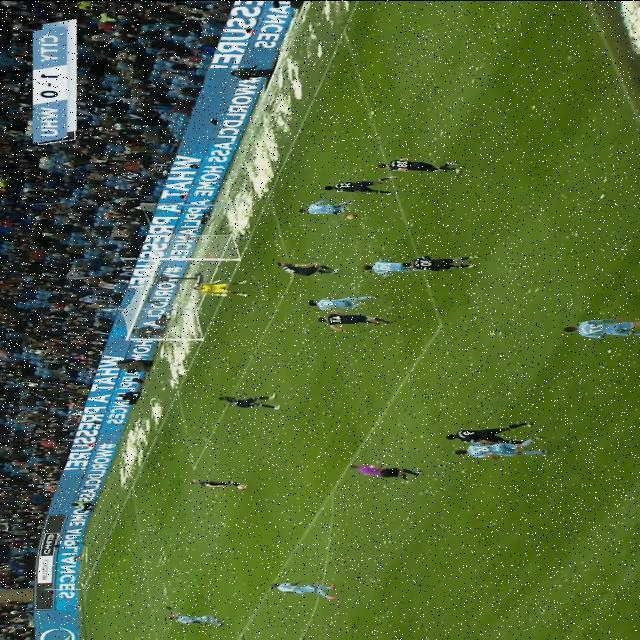ball: (344, 211, 360, 221)
goalkeeper: (183, 280, 260, 298)
player: (346, 455, 430, 485), (441, 423, 537, 447), (379, 154, 471, 178), (307, 311, 399, 333), (403, 251, 477, 277), (322, 175, 402, 199), (269, 256, 347, 280), (556, 319, 640, 339), (270, 579, 346, 601), (165, 608, 237, 630), (448, 445, 552, 460), (216, 393, 293, 411), (305, 293, 391, 309), (294, 197, 356, 217), (360, 257, 422, 277), (191, 476, 251, 492)
